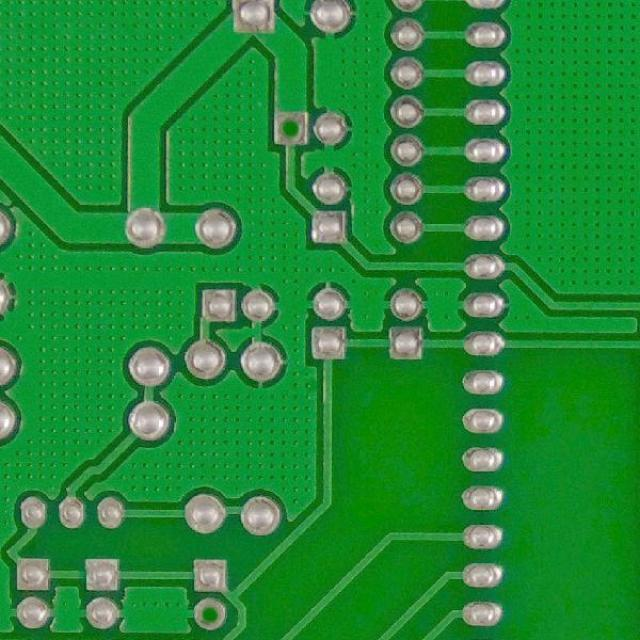Missing_Hole: (269, 107, 309, 148), (189, 595, 229, 633)
